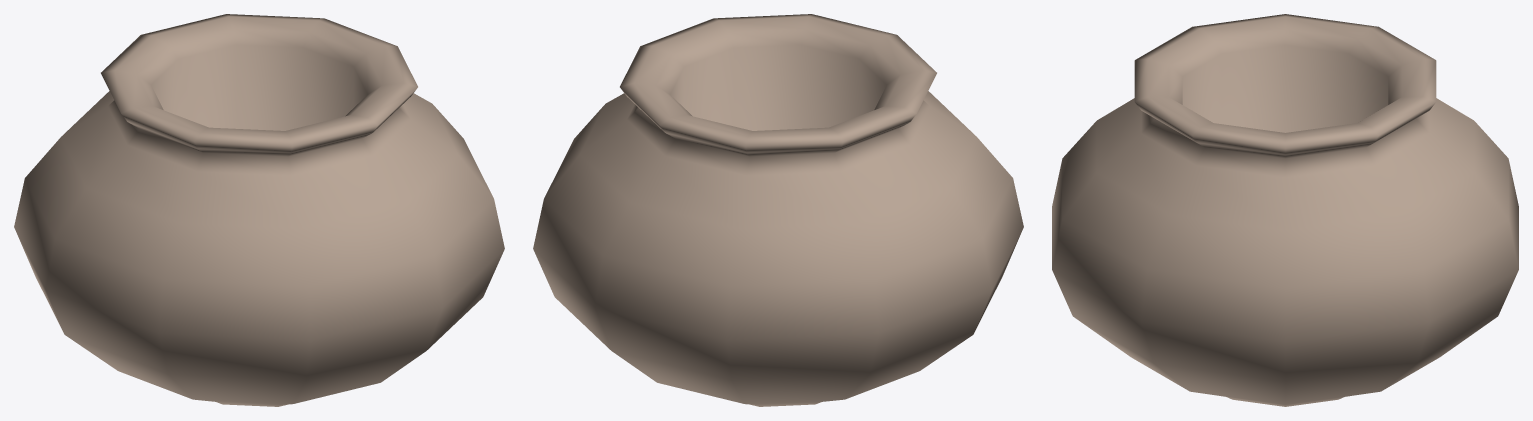
Rendered from pot2.fbx.
The picture shows the model from 3 angles, left to right: view 1: azimuth 30°, elevation 25°; view 2: azimuth 150°, elevation 25°; view 3: azimuth 270°, elevation 25°; orthographic projection.
Visible parts, largest first — view 1: pot2_medium_pot; view 2: pot2_medium_pot; view 3: pot2_medium_pot.
Part boxes in pixels (<box>): pot2_medium_pot: <box>14,14,504,406</box>; pot2_medium_pot: <box>533,14,1023,406</box>; pot2_medium_pot: <box>1052,14,1518,406</box>.
Size of the model in its own units: 136 by 89 by 129.
